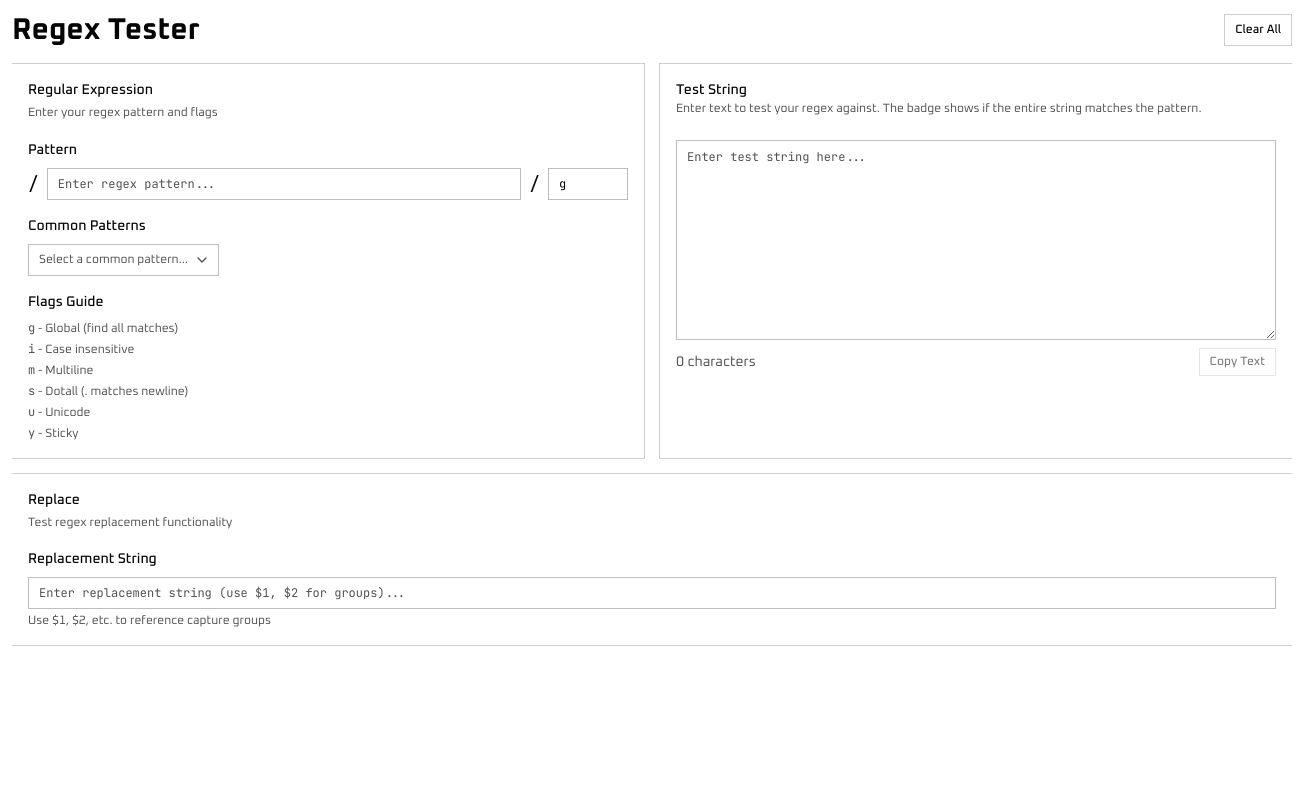
Scenario: RegexPage › tests basic regex functionality
// Enter a simple pattern and test string
Type "\\d+" into the field with placeholder "Enter regex pattern..." at (284, 184), box [47,168,521,200]
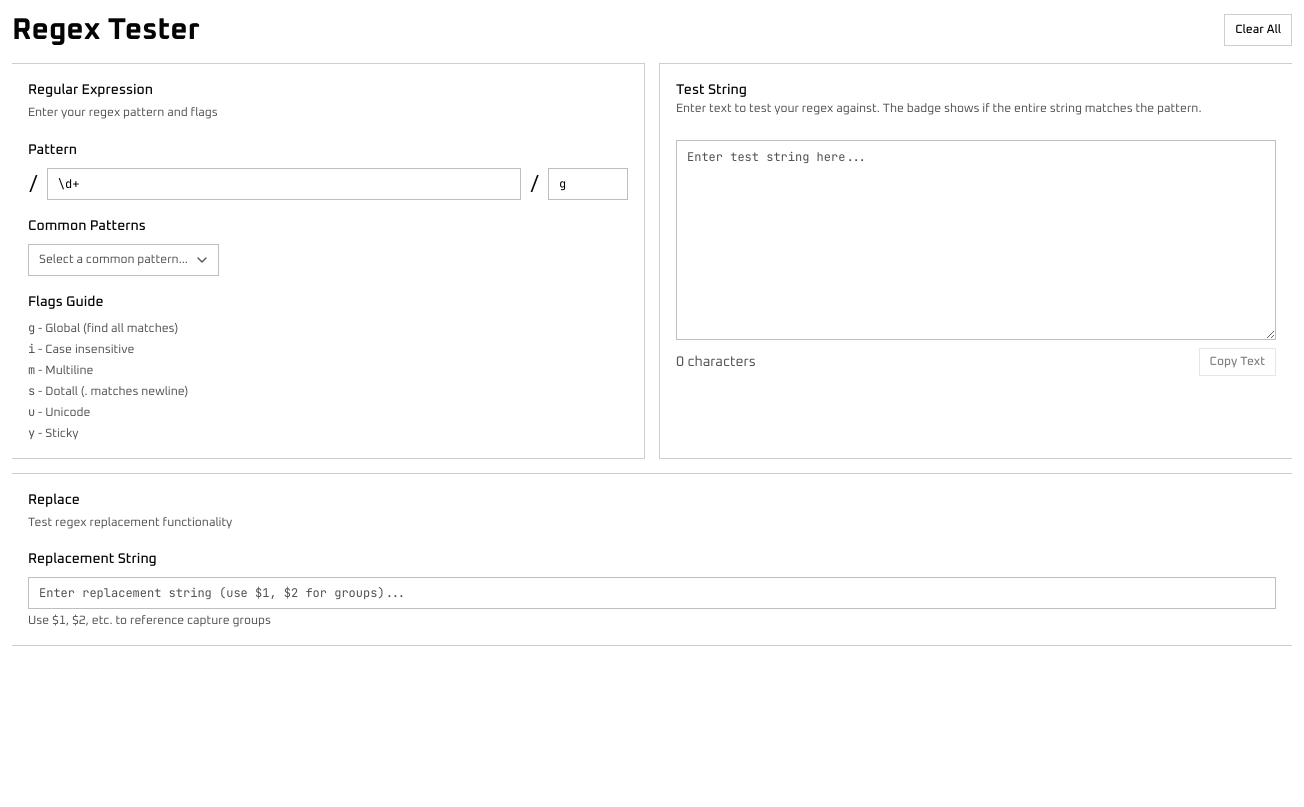
Type "Test 123" into the text box with placeholder "Enter test string here..." at (976, 240), box [676,140,1276,340]
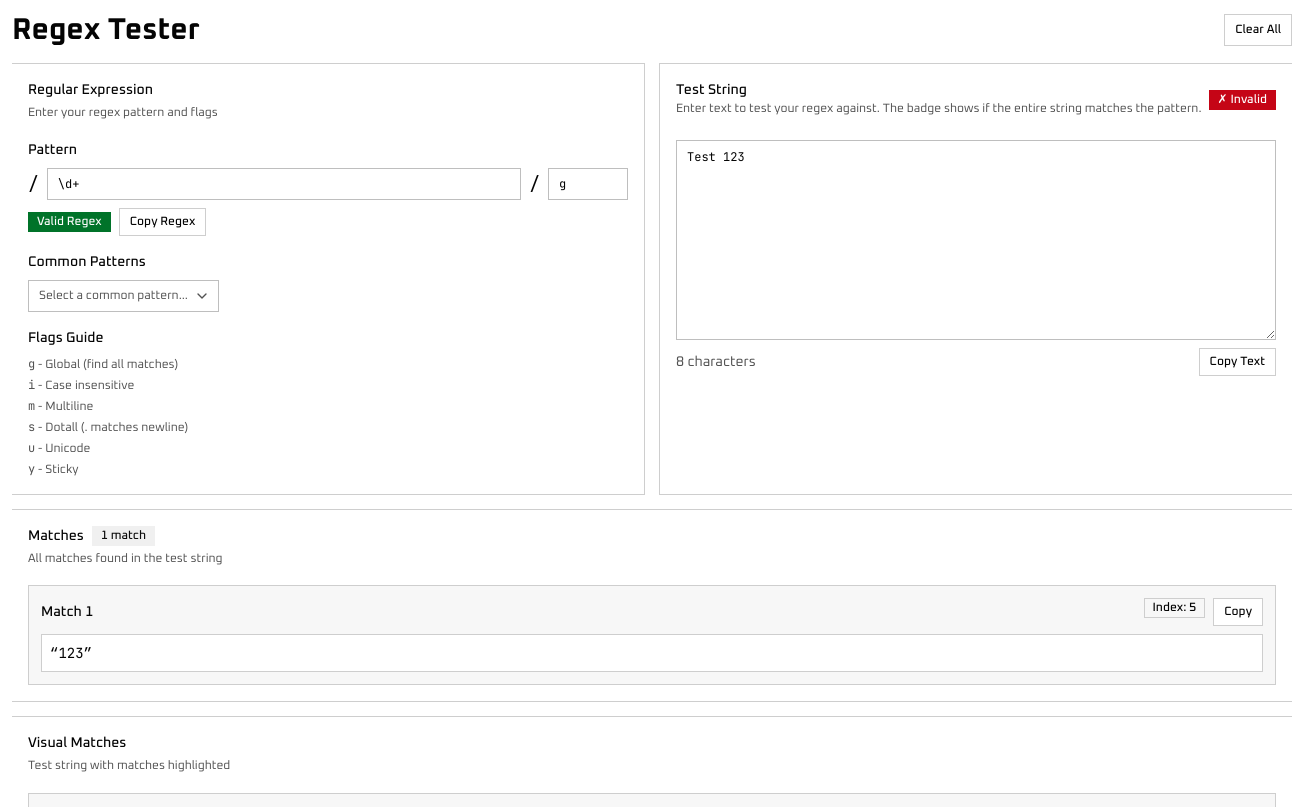
expect the text "Valid Regex" is shown: met, box [28,212,111,232]
